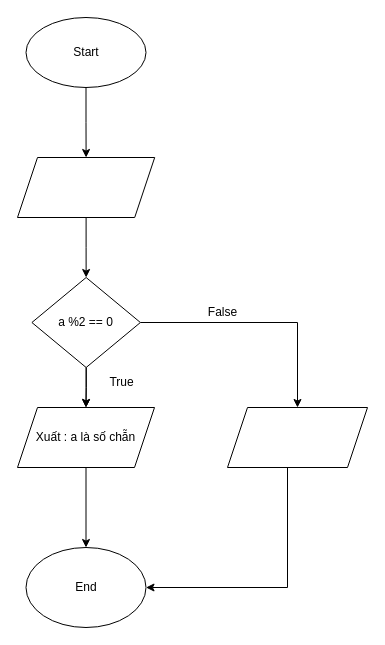
Some shapes in this 385 by 645 pixel diagram are drawn without their labels. Here are the shapes that lost their labels. From the top down, the centre of each, then its label:
the point at 85,187: Input : Nhập a
the point at 297,437: Xuất : a là số lẻ
